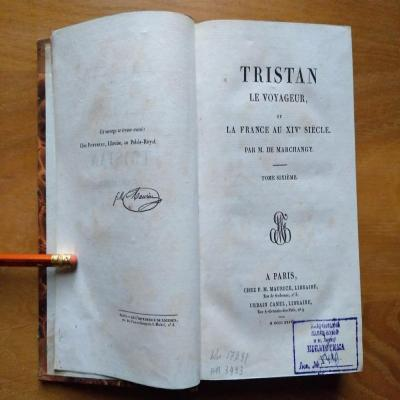rare_books: (14, 10, 365, 397)
